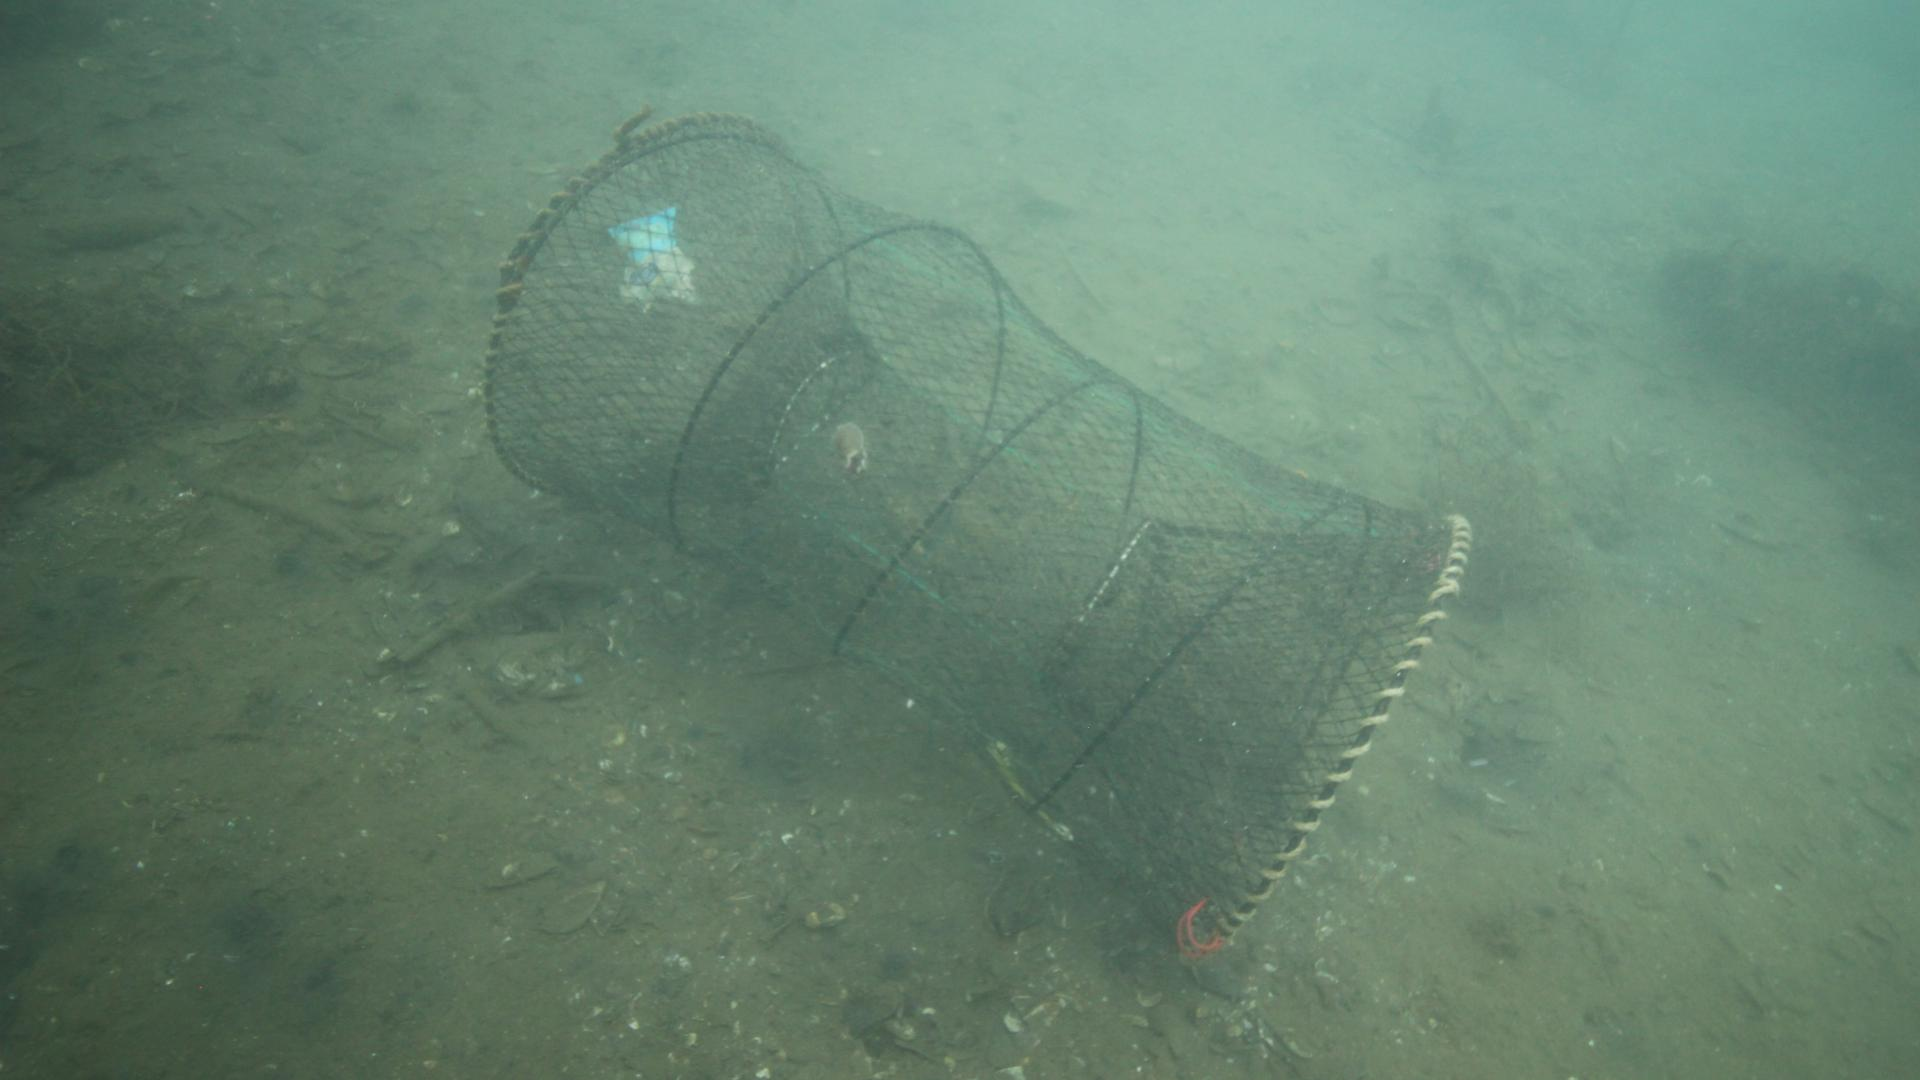spring fish trap: (484, 108, 1474, 953)
